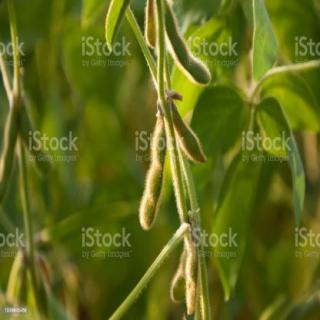soya: (164, 7, 212, 86), (138, 120, 164, 230), (172, 103, 206, 164), (185, 250, 197, 314), (144, 3, 158, 48)
